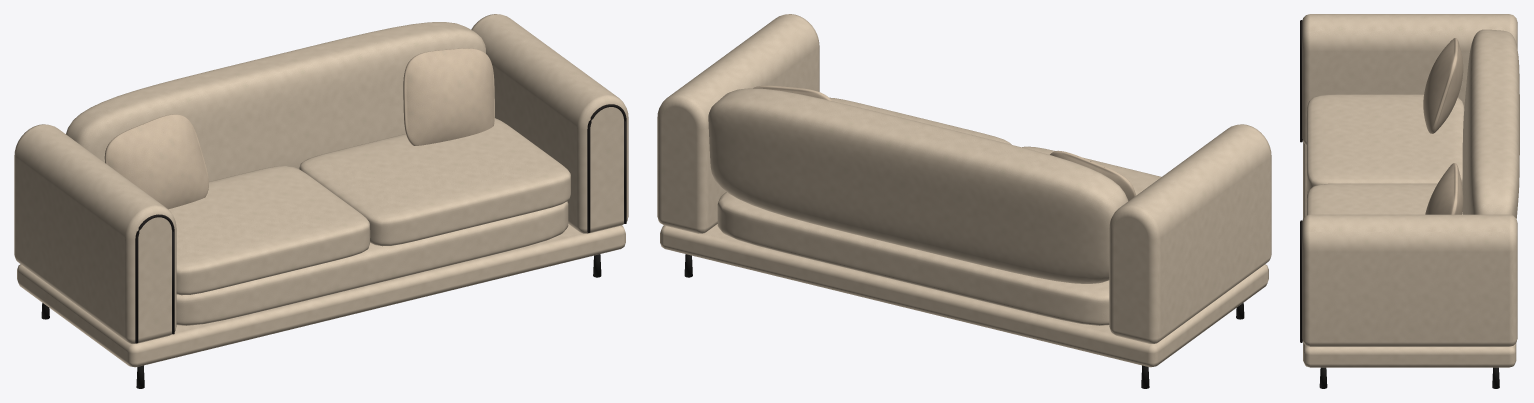
Rendered from cavali-sofa-set--sofa3.glb.
3 views of the same model, side by side, from view 1: azimuth 30°, elevation 25°; view 2: azimuth 150°, elevation 25°; view 3: azimuth 270°, elevation 25° (orthographic). The views are drawn at different scales.
Visible parts, largest first — view 1: back, arm-1, seat1, seat0, arm1, band, seatbase, pillow1, pillow-1, pipe-1, pipe1; view 2: back, arm-1, band, seatbase, arm1, seat1, pillow-1, seat0; view 3: arm1, arm-1, seat0, back, band, seat1, pillow-1, pillow1, pipe1, pipe-1.
Part boxes in pixels (x1,y1,x2,y2): back: (66, 22, 485, 181); arm-1: (14, 124, 176, 343); seat1: (299, 118, 570, 246); seat0: (168, 166, 370, 295); arm1: (471, 14, 628, 233); band: (17, 224, 625, 367); seatbase: (176, 201, 568, 325); pillow1: (403, 48, 494, 145); pillow-1: (104, 114, 208, 209); pipe-1: (135, 214, 174, 343); pipe1: (587, 104, 626, 232); back: (708, 88, 1128, 283); arm-1: (1109, 124, 1271, 343); band: (660, 224, 1268, 367); seatbase: (717, 192, 1109, 325); arm1: (657, 14, 819, 233); seat1: (829, 97, 1011, 144); pillow-1: (1050, 150, 1135, 200); seat0: (1022, 146, 1161, 195); arm1: (1302, 214, 1517, 346); arm-1: (1302, 14, 1517, 145); seat0: (1306, 94, 1464, 194); back: (1462, 29, 1519, 218); band: (1303, 142, 1516, 367); seat1: (1306, 183, 1462, 215); pillow-1: (1423, 38, 1463, 133); pillow1: (1425, 163, 1463, 214); pipe1: (1300, 220, 1302, 342); pipe-1: (1300, 20, 1302, 142).
Bounding box in the file's own units: 2.2 × 0.8423 × 0.917.
Materials: 5 (2 with a texture image).
